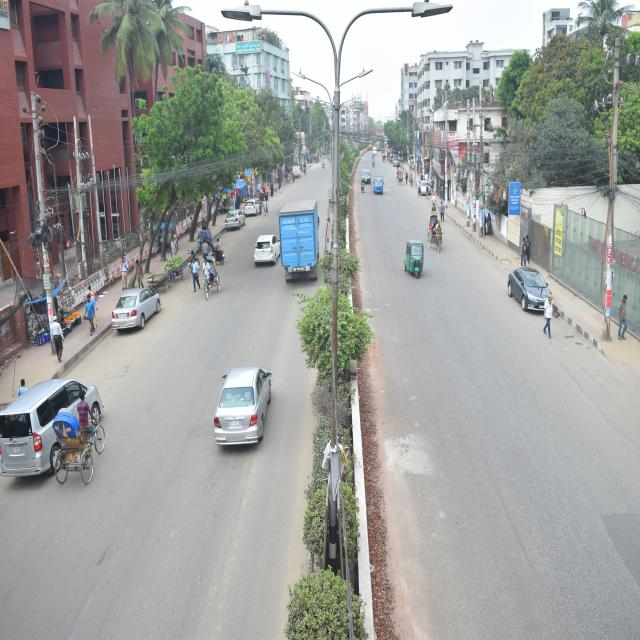car: (0, 363, 127, 513), (198, 342, 296, 484), (492, 252, 558, 339), (100, 270, 175, 340), (252, 225, 282, 277), (219, 194, 245, 238), (243, 188, 267, 230), (417, 173, 437, 199), (359, 162, 373, 193)
motorbike: (208, 223, 225, 273), (359, 176, 367, 194), (319, 154, 326, 170)
pickup-van: (374, 172, 386, 198)
truck: (276, 191, 326, 293)
